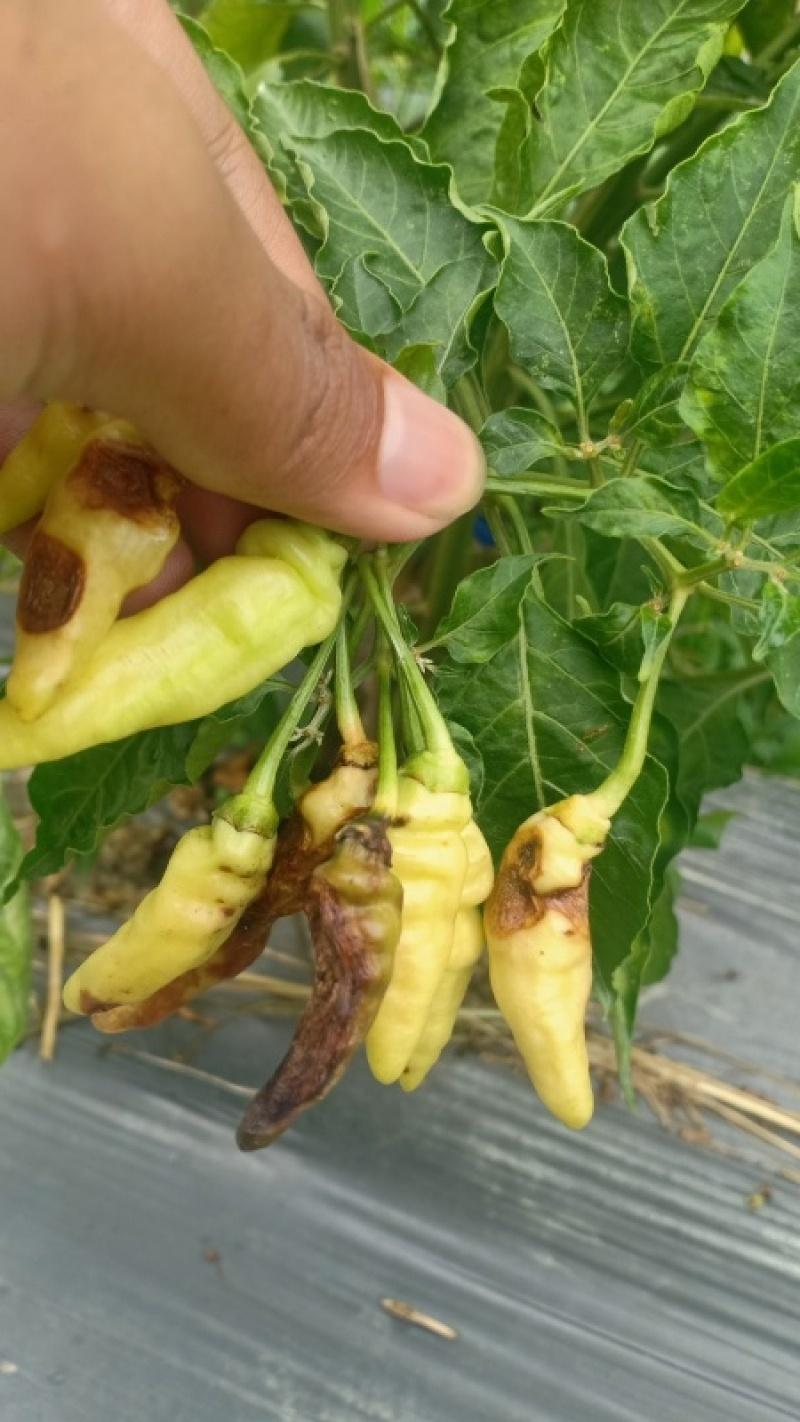antraknosa: (6, 419, 183, 721), (242, 843, 403, 1150), (61, 815, 276, 1019), (484, 806, 602, 1129)
